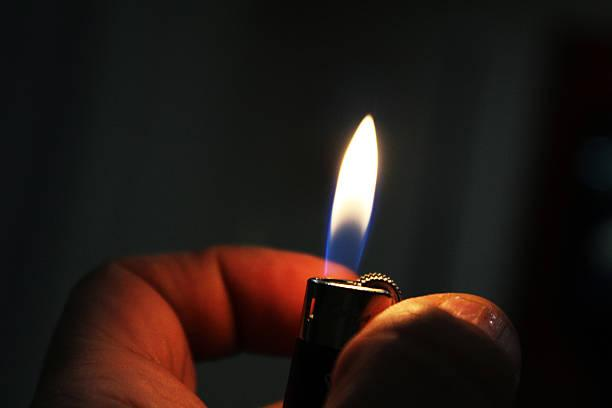Fire: (326, 109, 379, 276)
